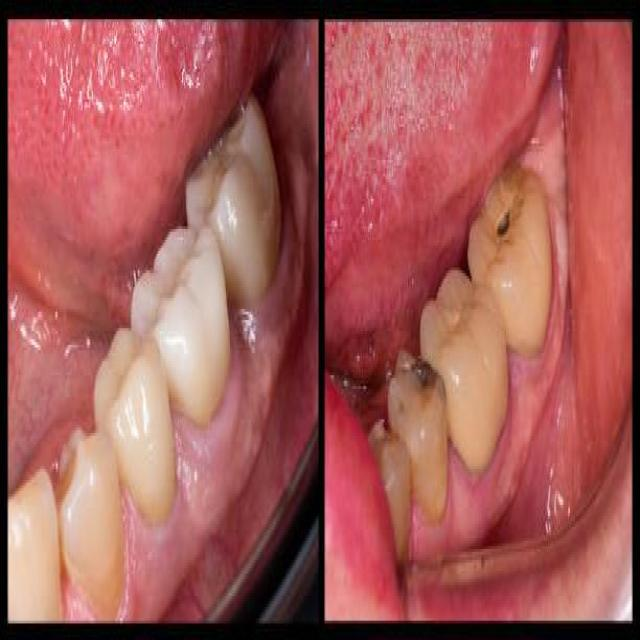caries: (411, 352, 447, 410), (494, 193, 523, 260)
